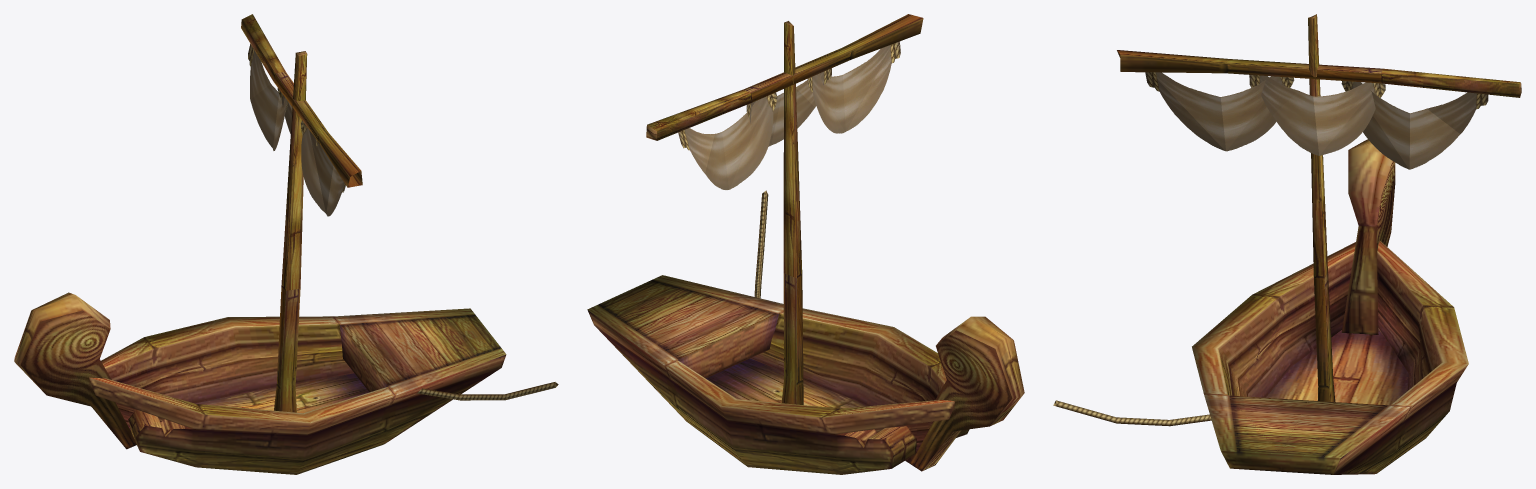
File: environment_Building_xiaomuchuan_001_a.FBX
The picture shows the model from 3 angles, left to right: view 1: azimuth 30°, elevation 25°; view 2: azimuth 150°, elevation 25°; view 3: azimuth 270°, elevation 25°; orthographic projection. The views are drawn at different scales.
Parts seen in each view (by area): view 1: environment_Building_xiaomuchuan_001_a0, environment_Building_xiaomuchuan_001_b0, environment_Building_xiaomuchuan_001_c0, environment_Building_xiaomuchuan_001_d0; view 2: environment_Building_xiaomuchuan_001_a0, environment_Building_xiaomuchuan_001_b0, environment_Building_xiaomuchuan_001_c0, environment_Building_xiaomuchuan_001_d0; view 3: environment_Building_xiaomuchuan_001_a0, environment_Building_xiaomuchuan_001_c0, environment_Building_xiaomuchuan_001_b0, environment_Building_xiaomuchuan_001_d0.
Part boxes in pixels (x1=…): environment_Building_xiaomuchuan_001_a0: x1=14, y1=292, x2=506, y2=474; environment_Building_xiaomuchuan_001_b0: x1=241, y1=14, x2=362, y2=412; environment_Building_xiaomuchuan_001_c0: x1=248, y1=44, x2=345, y2=216; environment_Building_xiaomuchuan_001_d0: x1=416, y1=382, x2=558, y2=400; environment_Building_xiaomuchuan_001_a0: x1=587, y1=275, x2=1024, y2=474; environment_Building_xiaomuchuan_001_b0: x1=646, y1=14, x2=923, y2=404; environment_Building_xiaomuchuan_001_c0: x1=678, y1=41, x2=900, y2=189; environment_Building_xiaomuchuan_001_d0: x1=754, y1=190, x2=768, y2=298; environment_Building_xiaomuchuan_001_a0: x1=1192, y1=139, x2=1468, y2=474; environment_Building_xiaomuchuan_001_c0: x1=1145, y1=72, x2=1488, y2=169; environment_Building_xiaomuchuan_001_b0: x1=1117, y1=14, x2=1521, y2=401; environment_Building_xiaomuchuan_001_d0: x1=1053, y1=400, x2=1211, y2=426.
Size of the model in its own units: 240 by 204 by 201.
